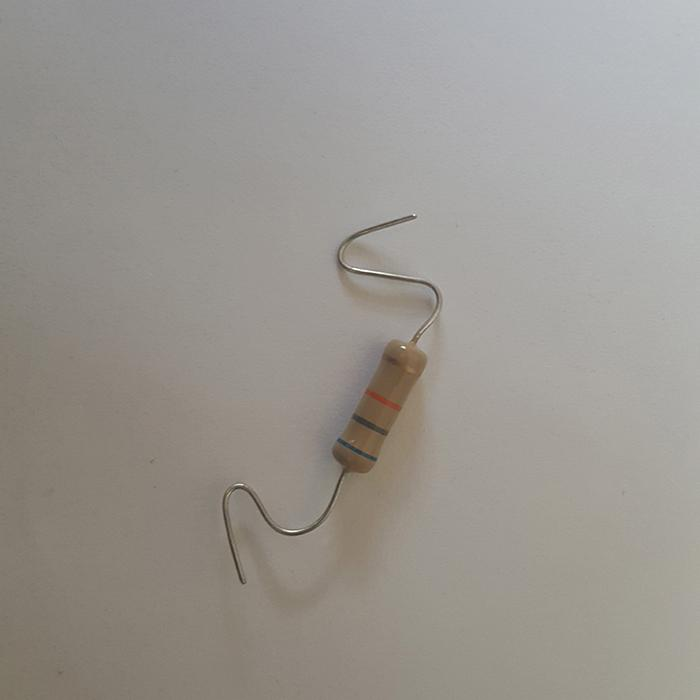resistor: (331, 338, 429, 473)
